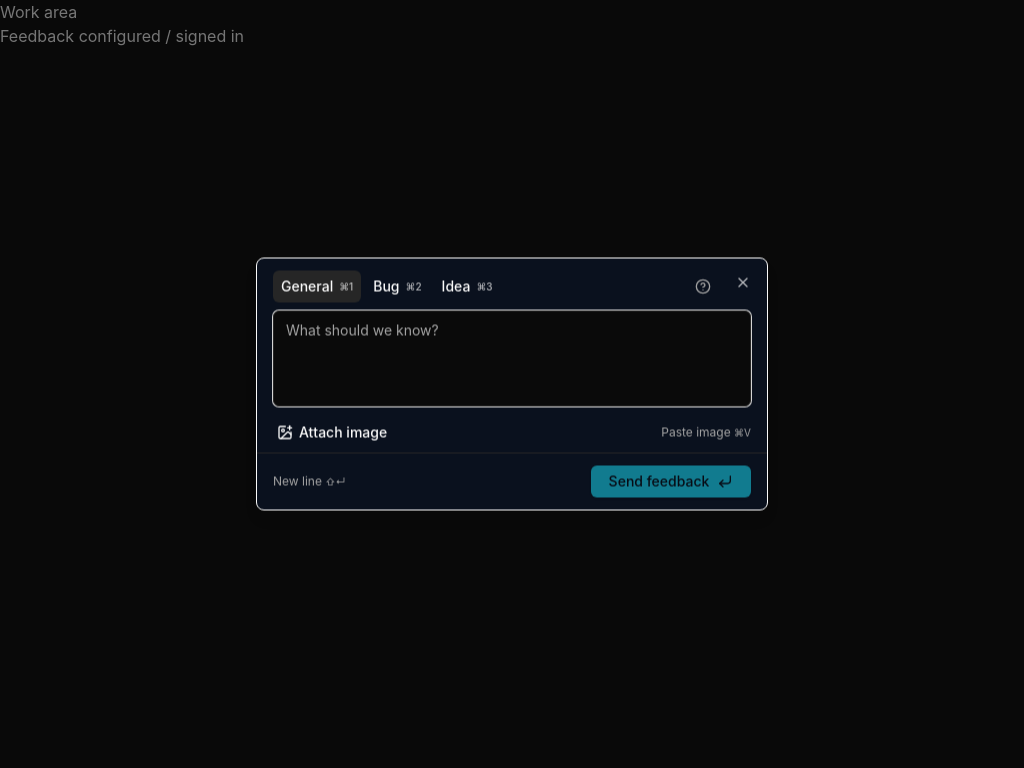
unified feedback composer continuity › honors explicit service retryability independently of status 500
Type "Follow the service retry contract" into the text box named "Feedback" at (512, 358), box [273, 310, 751, 406]
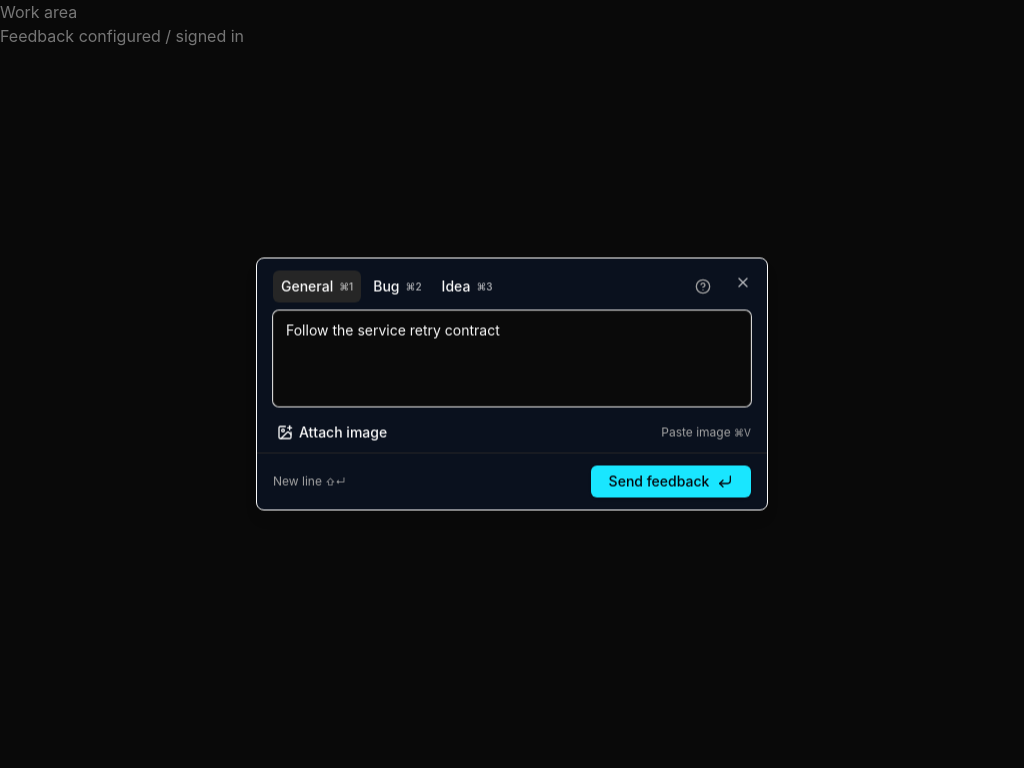
Press Enter in the text box named "Feedback", box [273, 310, 751, 406]
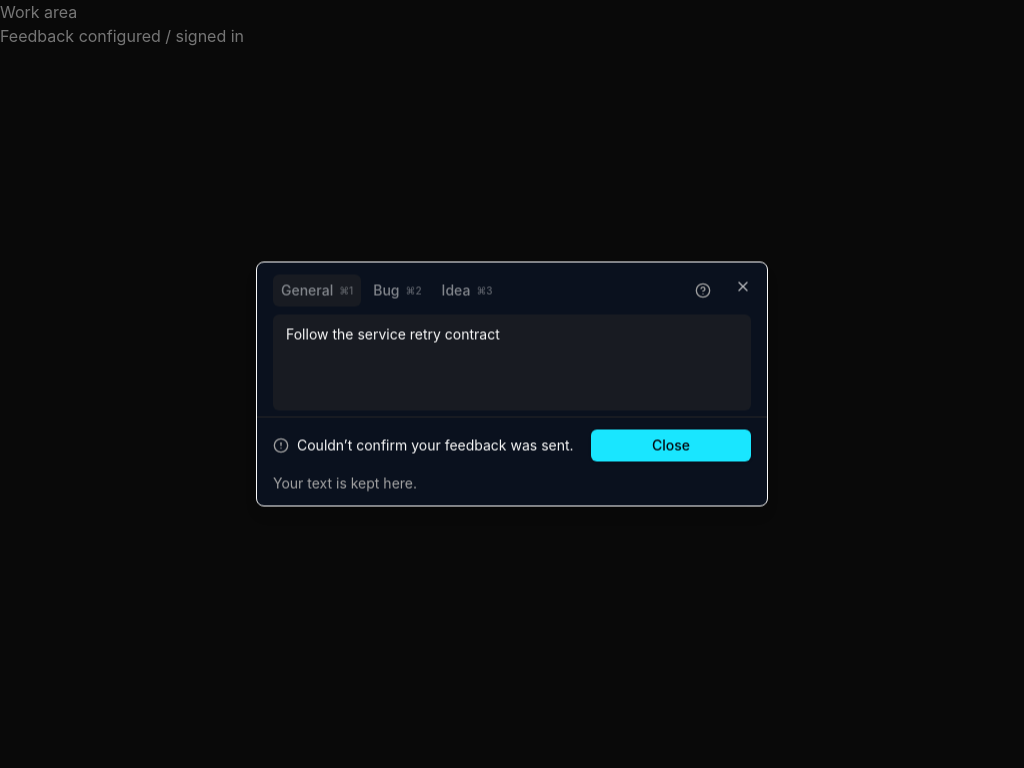
Expected: the element that starts with "Couldn’t confirm your feedback was sent." is shown, [257, 418, 767, 506]
